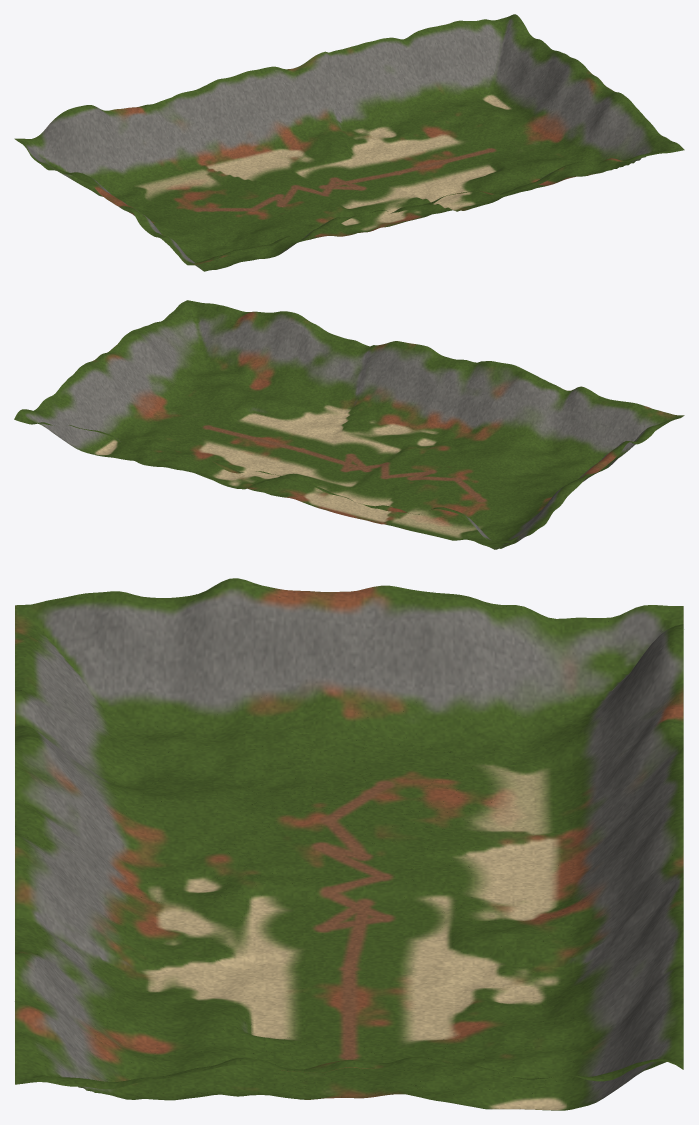
Rendered from SM_Art_Terrain_L_EthansMarks.gltf.
3 views of the same model, one above another, from view 1: azimuth 30°, elevation 25°; view 2: azimuth 150°, elevation 25°; view 3: azimuth 270°, elevation 25° (orthographic). The views are drawn at different scales.
Visible parts, largest first — view 1: SM_Art_Terrain_L_EthansMarks; view 2: SM_Art_Terrain_L_EthansMarks; view 3: SM_Art_Terrain_L_EthansMarks.
Boxes of the visible parts, bbox=[...] form: SM_Art_Terrain_L_EthansMarks: bbox=[14, 14, 684, 271]; SM_Art_Terrain_L_EthansMarks: bbox=[14, 300, 684, 549]; SM_Art_Terrain_L_EthansMarks: bbox=[15, 578, 683, 1110].
Bounding box in the file's own units: 279 × 33.25 × 169.
2 materials, 2 textured.
